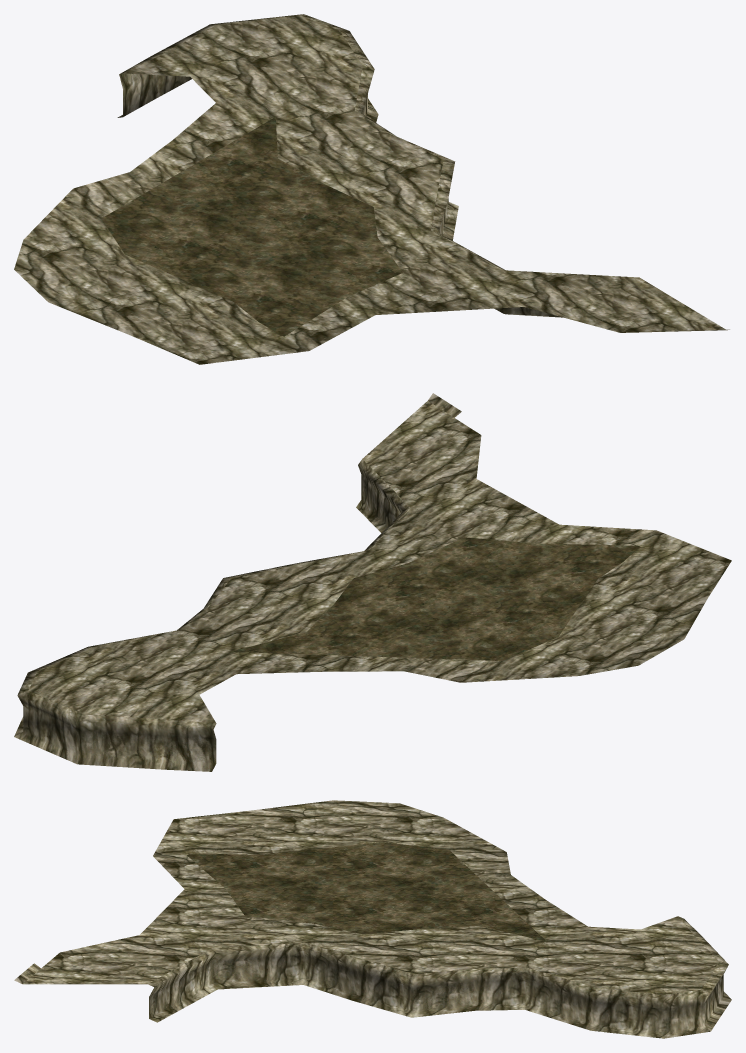
Rendered from CB_NEWPLAYSURFACE_CB_PLAYSURFACE139.fbx.
3 views of the same model, one above another, from view 1: azimuth 30°, elevation 25°; view 2: azimuth 150°, elevation 25°; view 3: azimuth 270°, elevation 25° (orthographic). The views are drawn at different scales.
Visible parts, largest first — view 1: CB_NEWPLAYSURFACE_CB_PLAYSURFACE139; view 2: CB_NEWPLAYSURFACE_CB_PLAYSURFACE139; view 3: CB_NEWPLAYSURFACE_CB_PLAYSURFACE139.
Boxes of the visible parts, x1,y1,x2,y2 form: CB_NEWPLAYSURFACE_CB_PLAYSURFACE139: [14, 14, 729, 364]; CB_NEWPLAYSURFACE_CB_PLAYSURFACE139: [14, 393, 731, 771]; CB_NEWPLAYSURFACE_CB_PLAYSURFACE139: [14, 800, 731, 1038].
Bounding box in the file's own units: 332031 × 35286 × 511098.
Materials: 3 (3 with a texture image).
